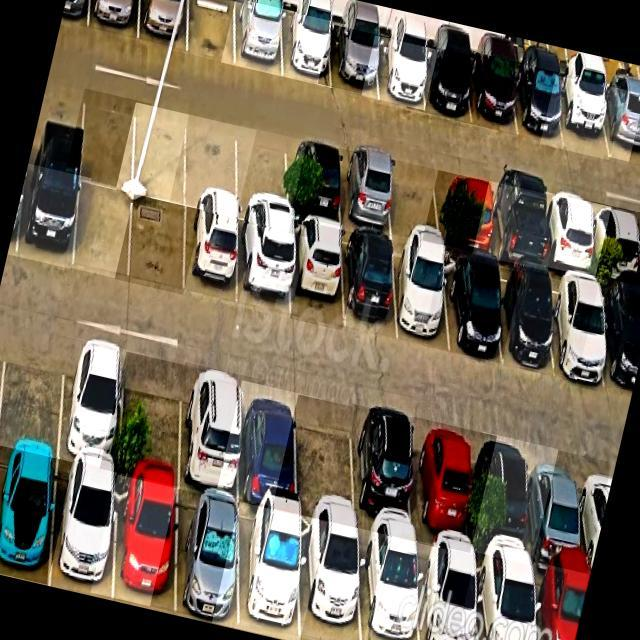empty: (0, 325, 66, 455), (119, 352, 183, 486), (297, 395, 356, 527), (73, 181, 133, 280), (132, 102, 189, 206), (79, 89, 135, 190), (129, 195, 185, 294), (185, 115, 237, 217), (237, 126, 287, 230), (388, 158, 441, 243), (187, 0, 236, 64)
occupied: (50, 460, 115, 597), (58, 336, 124, 470), (175, 488, 238, 626), (352, 407, 416, 540), (114, 475, 176, 612), (238, 503, 299, 640), (180, 366, 240, 499), (0, 448, 58, 584), (414, 418, 470, 553), (239, 380, 296, 511), (300, 516, 360, 640), (530, 444, 586, 576), (548, 273, 607, 385), (482, 432, 532, 564), (358, 532, 419, 640), (16, 164, 79, 268), (493, 266, 553, 371), (443, 256, 501, 364), (393, 242, 449, 352), (417, 542, 478, 640), (343, 230, 398, 337), (291, 220, 343, 328), (183, 208, 237, 305), (475, 555, 536, 640), (489, 181, 545, 270), (238, 222, 290, 317), (599, 283, 640, 397), (288, 138, 341, 225), (439, 170, 492, 256), (340, 149, 393, 234), (555, 75, 609, 158), (544, 192, 595, 277), (533, 565, 590, 640), (591, 202, 640, 286), (514, 63, 563, 146), (469, 53, 517, 134), (421, 46, 471, 123), (282, 10, 331, 87), (375, 36, 424, 110), (235, 0, 282, 76), (598, 84, 640, 164), (331, 25, 377, 97), (138, 0, 188, 50), (88, 0, 139, 39)
